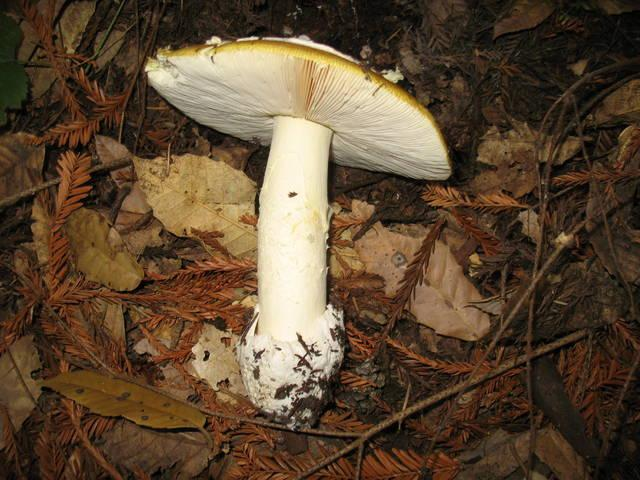Edible Mushroom: (142, 34, 452, 431)
